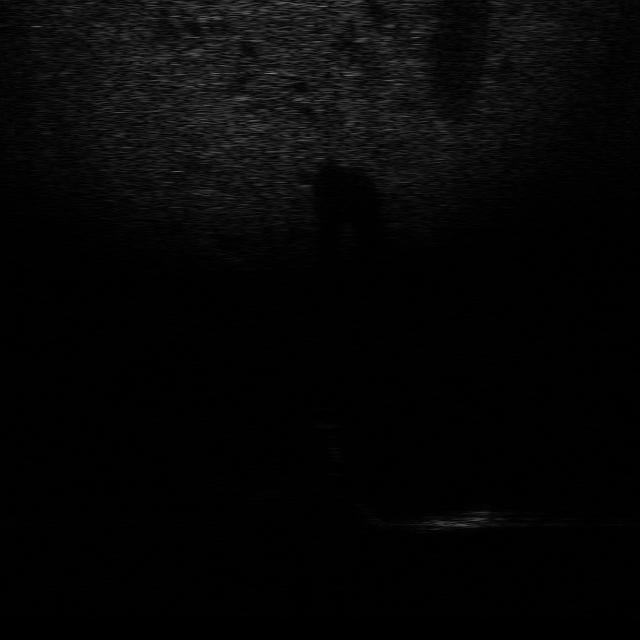ball: (299, 401, 349, 430)
metal bucket: (409, 500, 531, 536)
tyre: (329, 494, 389, 532)
